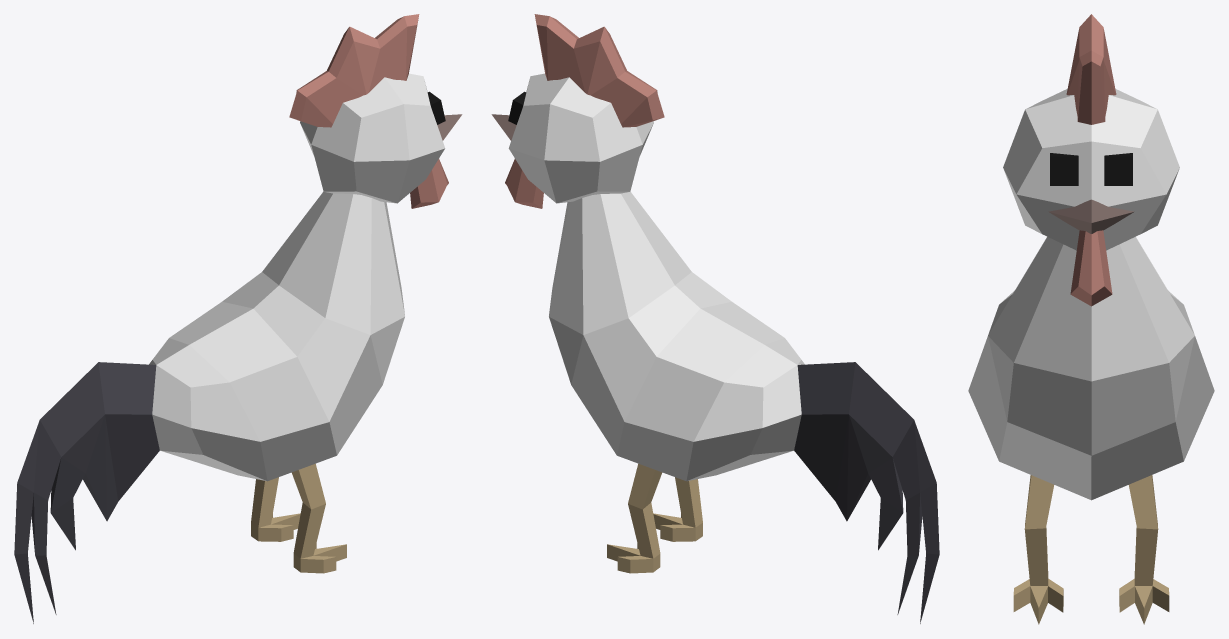
File: rooster.glb
The picture shows the model from 3 angles, left to right: view 1: azimuth 30°, elevation 25°; view 2: azimuth 150°, elevation 25°; view 3: azimuth 270°, elevation 25°; orthographic projection. The views are drawn at different scales.
Parts seen in each view (by area): view 1: rooster_0; view 2: rooster_0; view 3: rooster_0.
Boxes of the visible parts, left/top/right/bottom form: rooster_0: left=14, top=14, right=462, bottom=623; rooster_0: left=491, top=14, right=939, bottom=623; rooster_0: left=968, top=14, right=1214, bottom=624.
Bounding box in the file's own units: 0.4531 × 0.5036 × 0.1759.
Materials: 1 (1 with a texture image).
